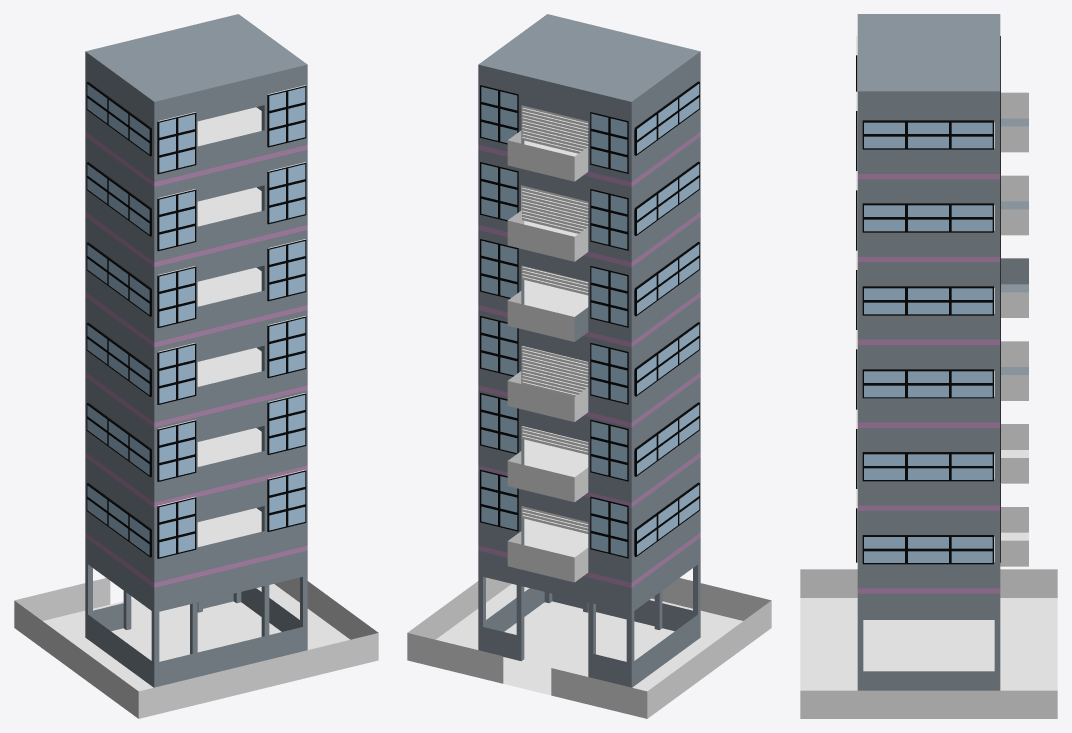
Rendered from BUILD 2.fbx.
The picture shows the model from 3 angles, left to right: view 1: azimuth 30°, elevation 25°; view 2: azimuth 150°, elevation 25°; view 3: azimuth 270°, elevation 25°; orthographic projection. The views are drawn at different scales.
Parts seen in each view (by area): view 1: 2_1; view 2: 2_1; view 3: 2_1.
Part boxes in pixels (x1,y1,x2,y2): 2_1: [14, 14, 378, 718]; 2_1: [407, 14, 771, 718]; 2_1: [800, 14, 1057, 718].
Bounding box in the file's own units: 1003 × 2360 × 900.
